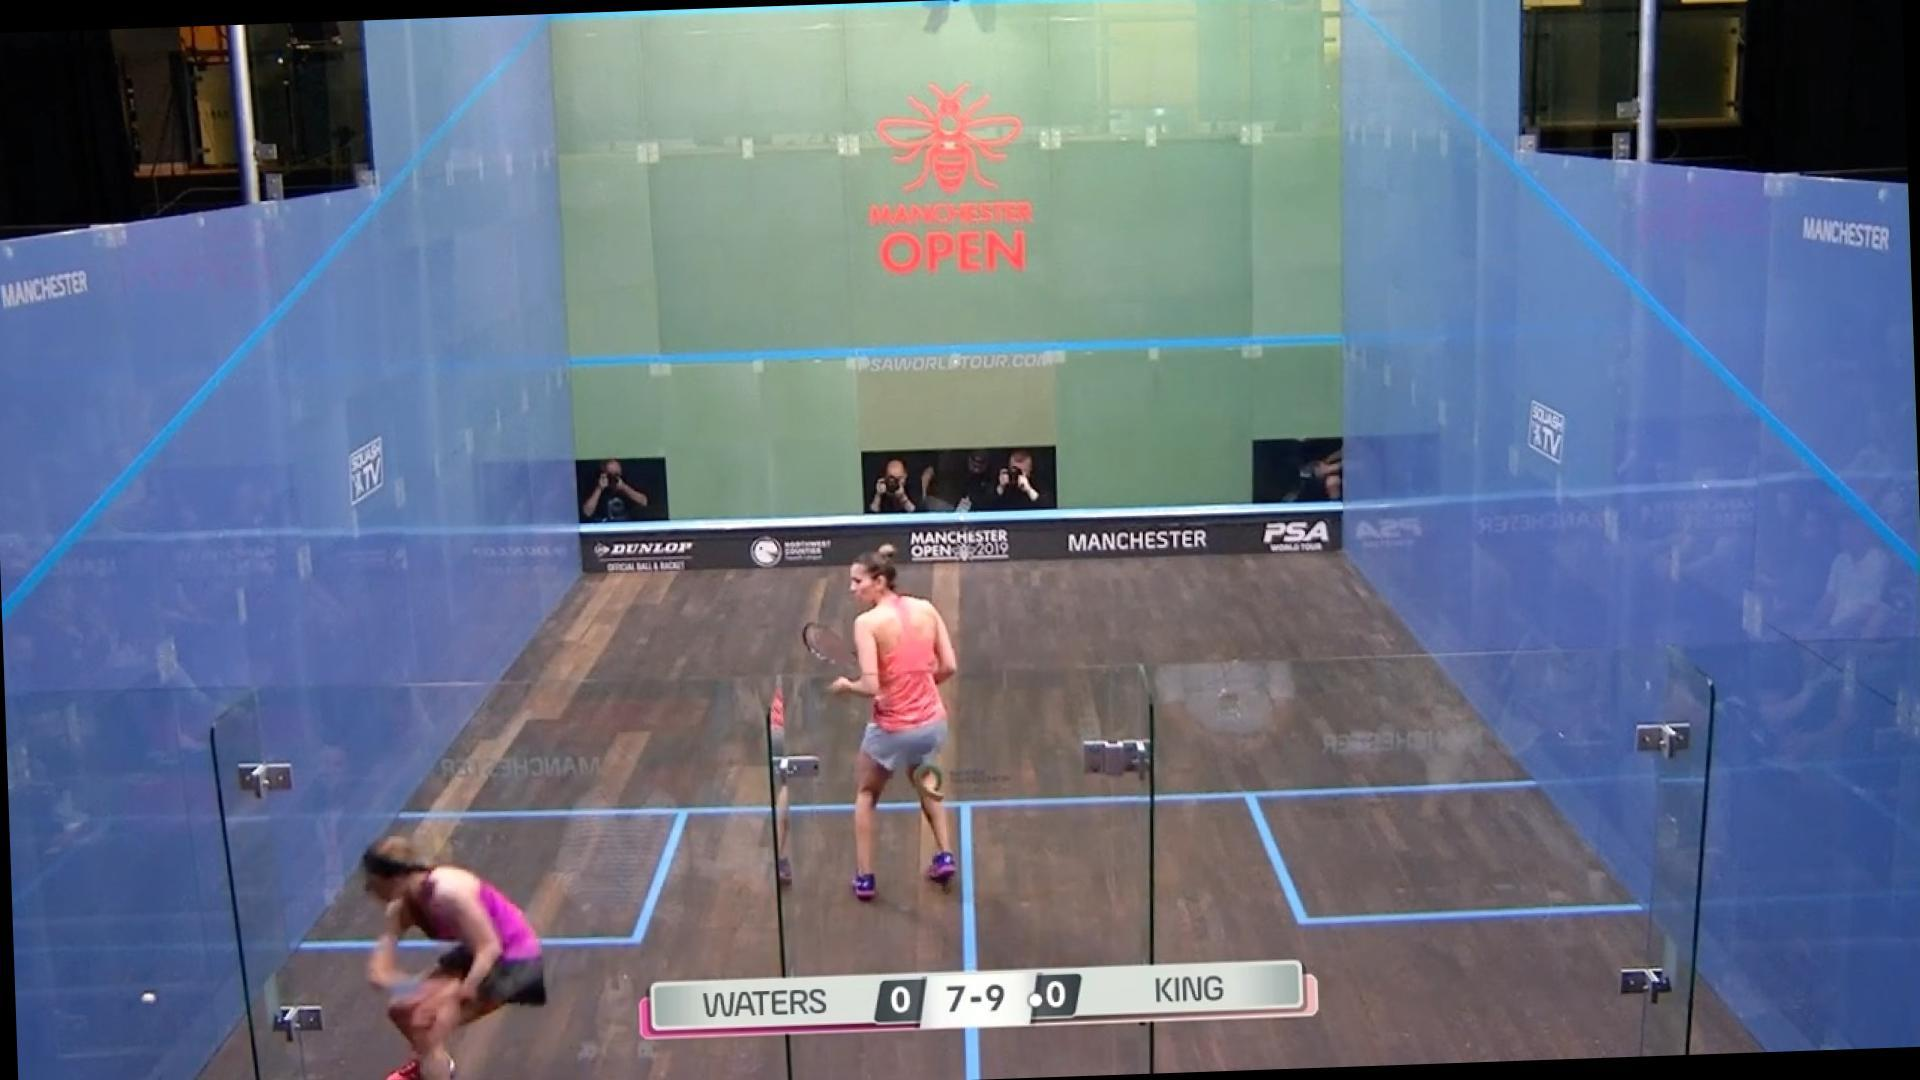Squash-Ball: (124, 975, 182, 1027)
